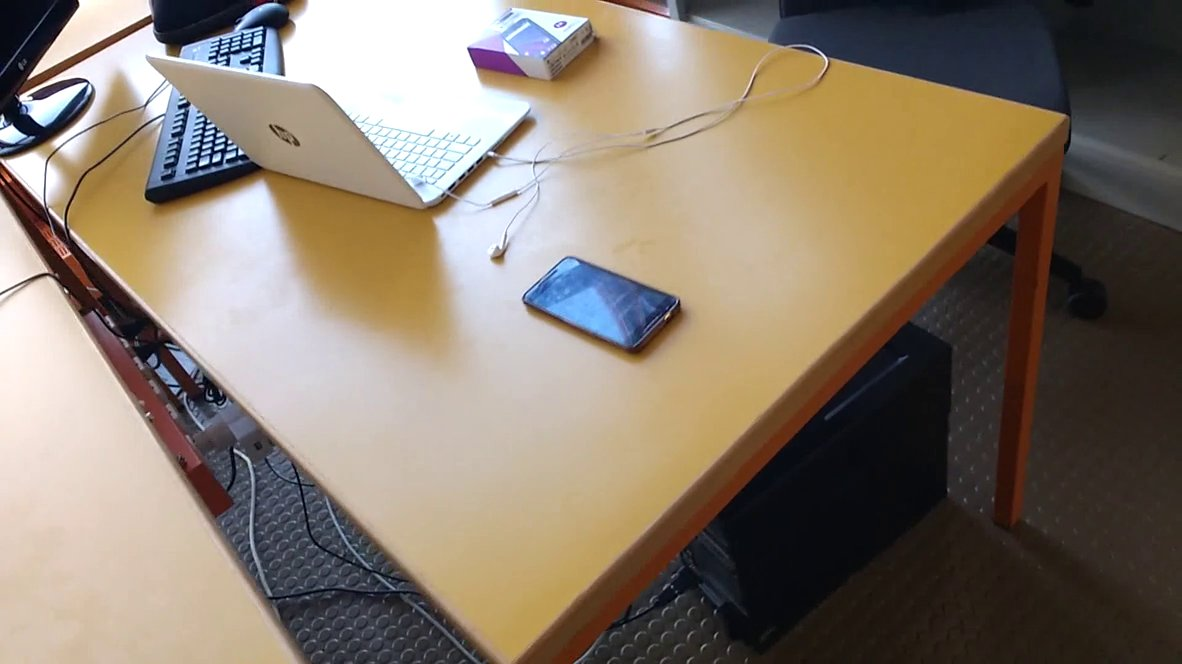laptop: (138, 47, 544, 223)
phone: (516, 250, 694, 366)
